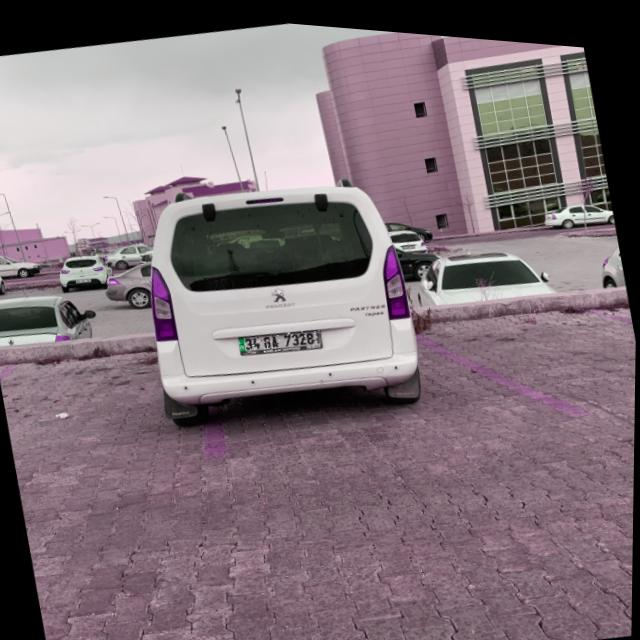license_plate: (240, 319, 323, 353)
